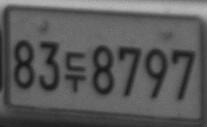3: (38, 40, 60, 91)
7: (117, 45, 142, 96), (171, 48, 196, 99)
8: (91, 44, 114, 95), (13, 38, 35, 90)
9: (144, 47, 168, 99)
두: (64, 50, 86, 93)
